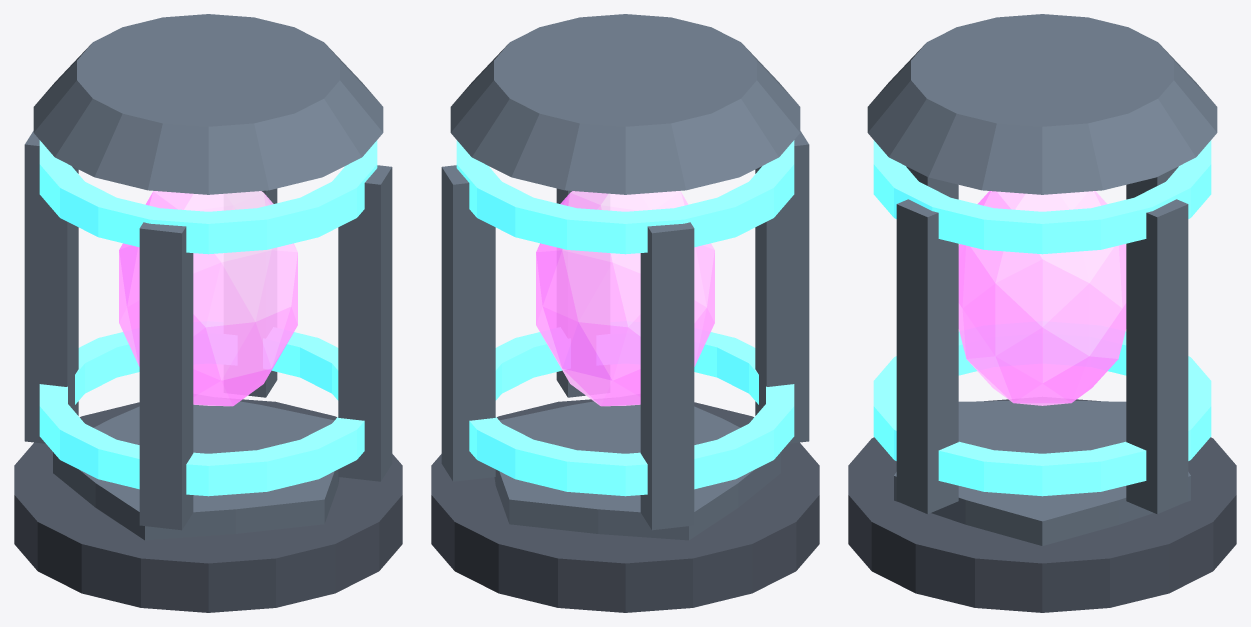
Rendered from AXM-ENERGY-CORE-001_LOD2.glb.
3 views of the same model, side by side, from view 1: azimuth 30°, elevation 25°; view 2: azimuth 150°, elevation 25°; view 3: azimuth 270°, elevation 25° (orthographic).
Parts seen in each view (by area): view 1: cap, base, lower_ring, core, pillar__r02, base_gear, upper_ring, pillar__r03, pillar__r01; view 2: cap, base, lower_ring, core, pillar__r01, base_gear, upper_ring, pillar__r00, pillar__r02; view 3: cap, base, core, pillar__r00, pillar__r03, base_gear, upper_ring, lower_ring, pillar__r01, pillar__r02.
Boxes of the visible parts, x1,y1,x2,y2 form: cap: (33,14,383,194); base: (14,399,402,612); lower_ring: (39,332,364,496); core: (119,191,297,406); pillar__r02: (139,222,193,530); base_gear: (53,401,339,540); upper_ring: (39,140,377,254); pillar__r03: (338,165,392,481); pillar__r01: (24,131,78,443); cap: (450,14,800,194); base: (431,399,819,612); lower_ring: (469,332,794,496); core: (536,191,714,406); pillar__r01: (640,222,694,530); base_gear: (494,401,780,540); upper_ring: (456,140,794,254); pillar__r00: (441,165,495,481); pillar__r02: (755,131,809,443); cap: (867,14,1217,194); base: (848,399,1236,612); core: (958,191,1126,405); pillar__r00: (1126,199,1188,514); pillar__r03: (896,199,958,514); base_gear: (894,401,1190,545); upper_ring: (873,140,1211,254); lower_ring: (873,331,1211,496); pillar__r01: (1126,166,1178,199); pillar__r02: (906,166,958,199).
Bounding box in the file's own units: 1.3 × 1.67 × 1.28.
